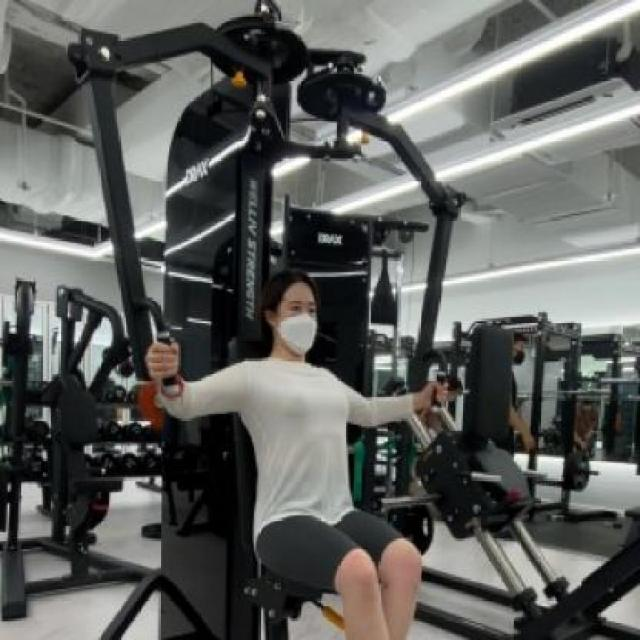chest fly machine: (63, 0, 491, 640)
